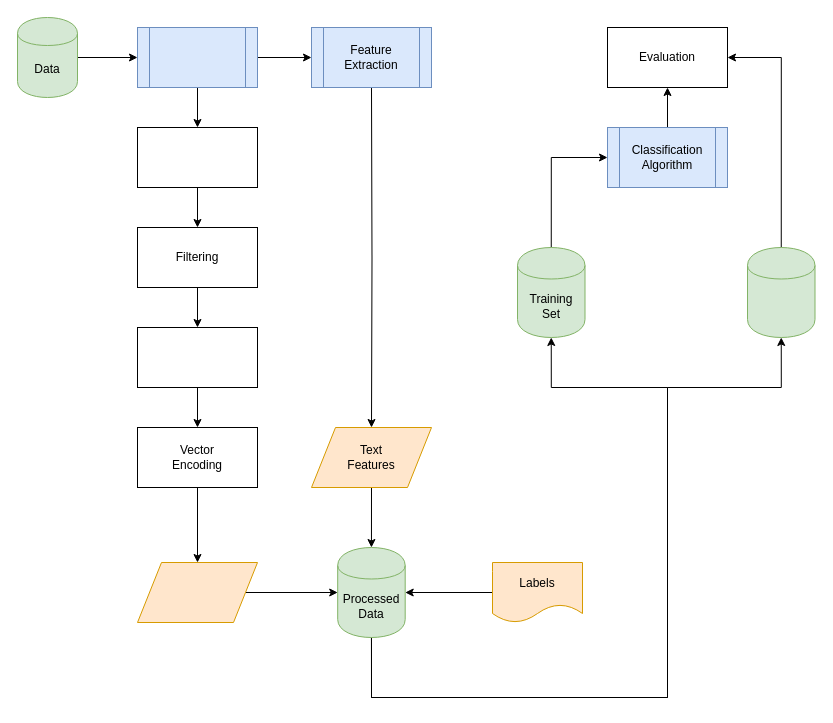
Some shapes in this 833 by 723 pixel diagram are drawn without their labels. Here are the shapes that lost their labels. From the top down, the box of each, then its label:
(136, 26, 258, 88): Text Preprocessing
(136, 126, 258, 188): Tokenization
(746, 246, 815, 338): Test Set
(136, 326, 258, 388): Stemming
(136, 562, 258, 622): Text Representation
